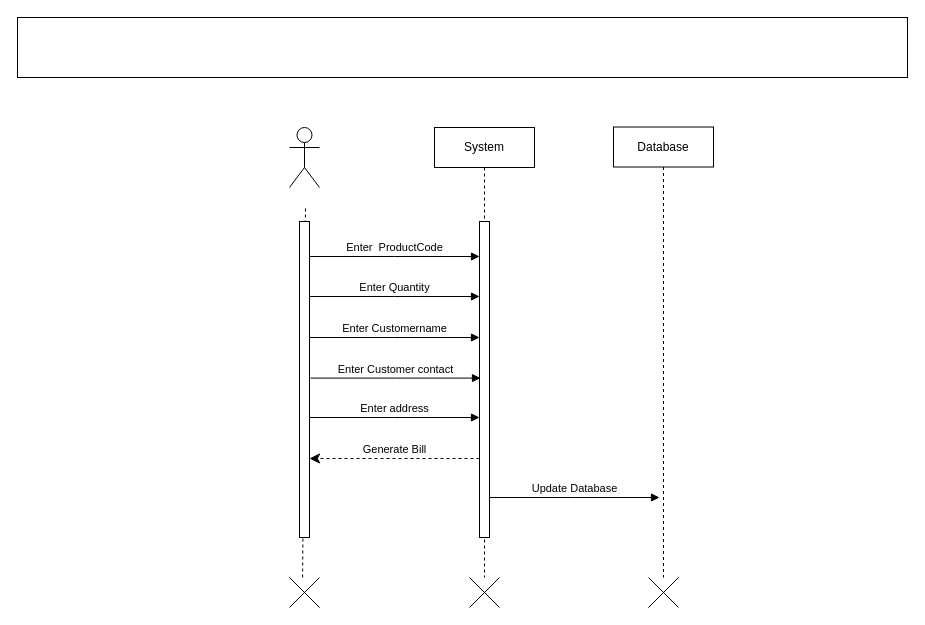
The diagram is 925 pixels wide and 625 high, and some of its shapes have lost their labels. The shapes that lost their labels are listed below. From the top down, each one's box as (x1, y1, x2, y2) in pixels, then its label:
(16, 16, 908, 78): Offline Billing Management Sequence Diagram
(288, 126, 320, 188): Actor
